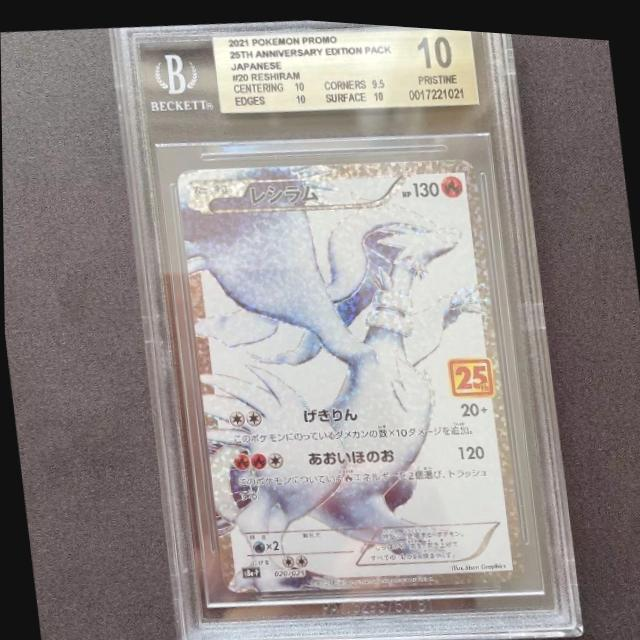bgs_label: (210, 21, 480, 111)
bgs_slab: (107, 16, 583, 640)
card: (172, 150, 525, 591)
